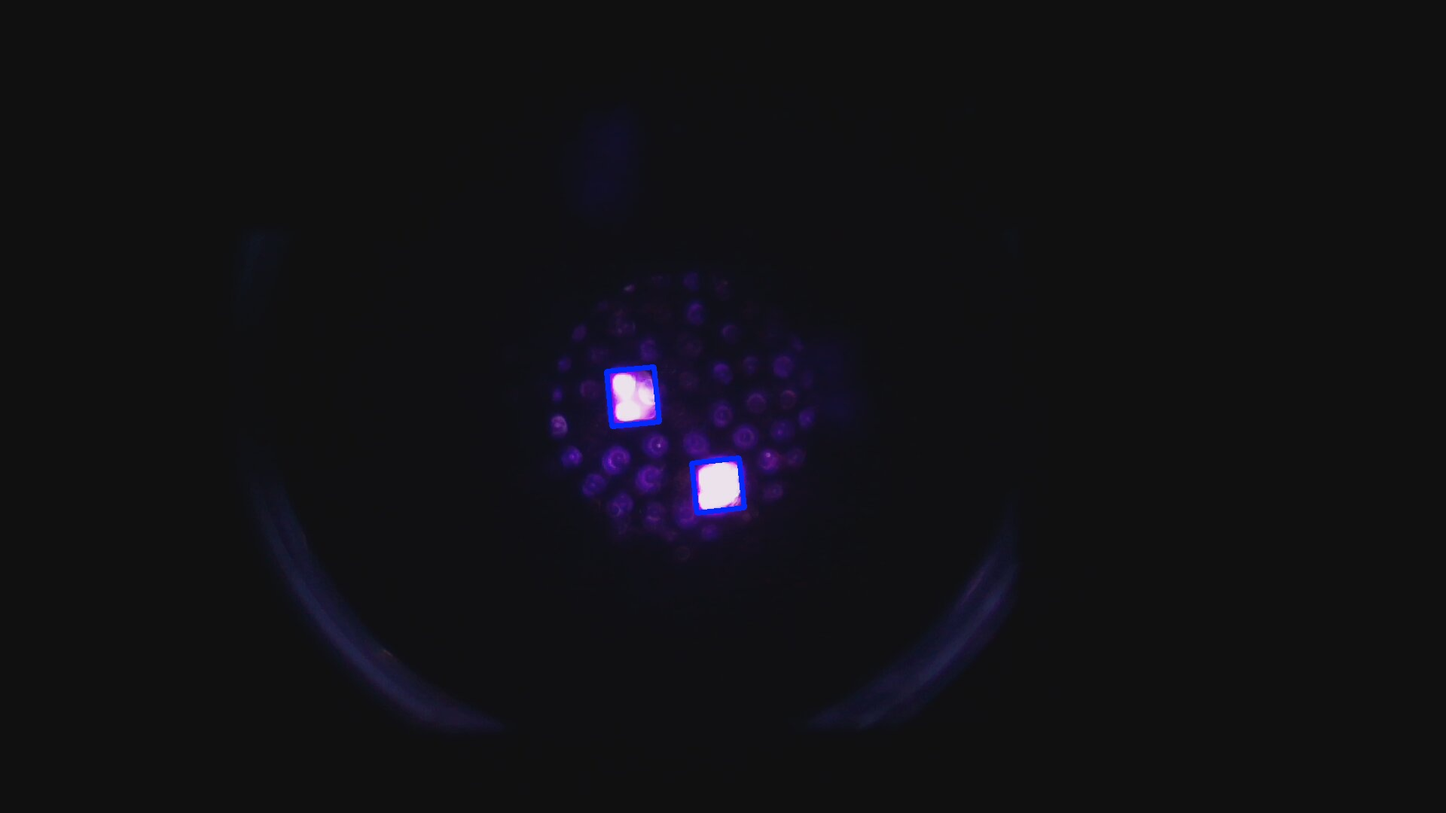plastic: (607, 367, 659, 426), (692, 458, 744, 513)
